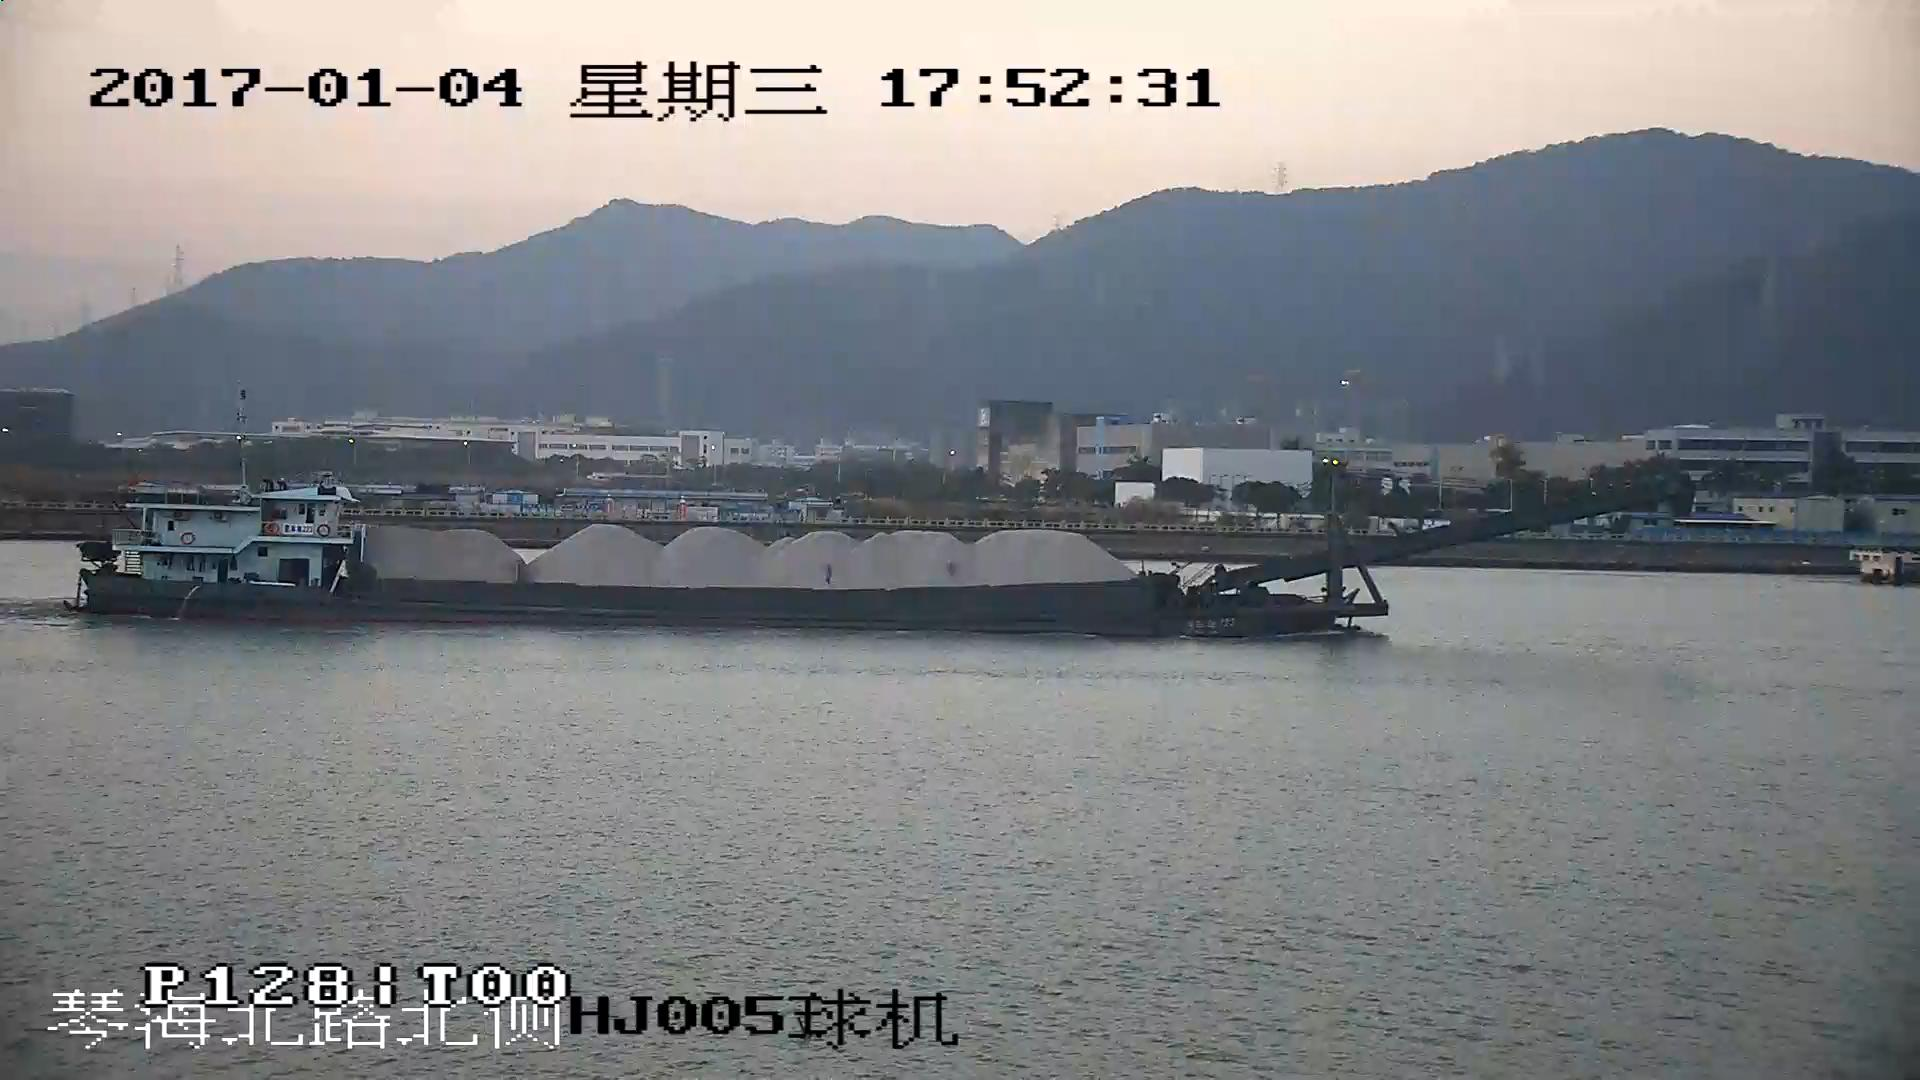ore carrier: (78, 490, 1649, 640)
